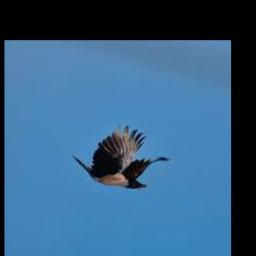Crow: (73, 126, 171, 190)
